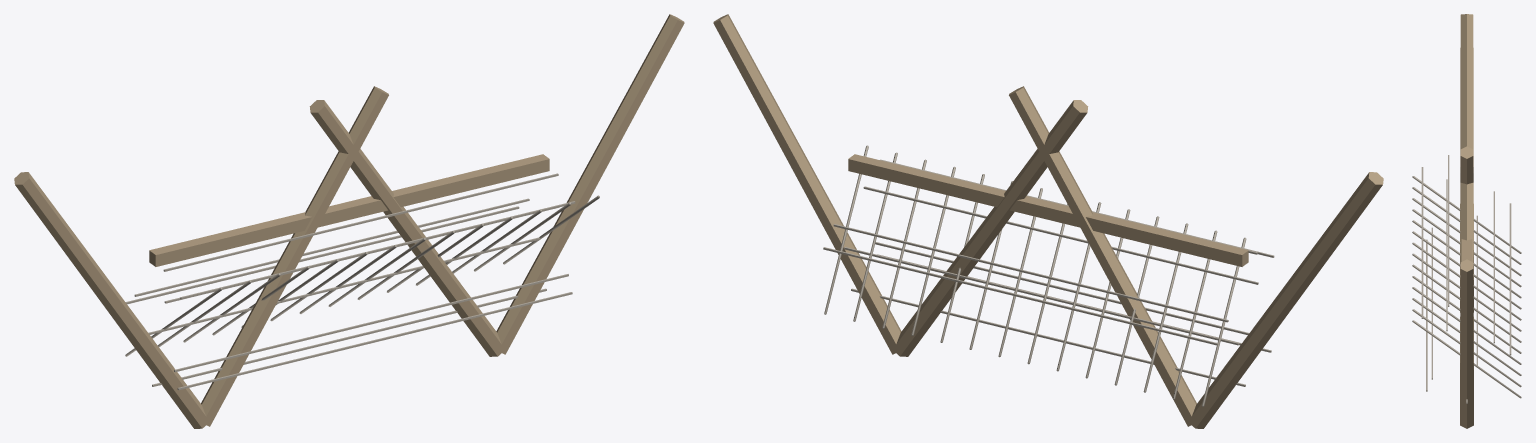
The model's file is trench-line-1917-knife-rest-e58ca529__24084.glb.
3 renders of one model, left to right at view 1: azimuth 30°, elevation 25°; view 2: azimuth 150°, elevation 25°; view 3: azimuth 270°, elevation 25°, orthographic. The views are drawn at different scales.
Parts seen in each view (by area): view 1: knife-rest; view 2: knife-rest; view 3: knife-rest.
Boxes of the visible parts, x1,y1,x2,y2 form: knife-rest: (14,14,684,428); knife-rest: (713,14,1383,428); knife-rest: (1412,14,1521,428).
Bounding box in the file's own units: 4.08 × 1.73 × 0.7353.
